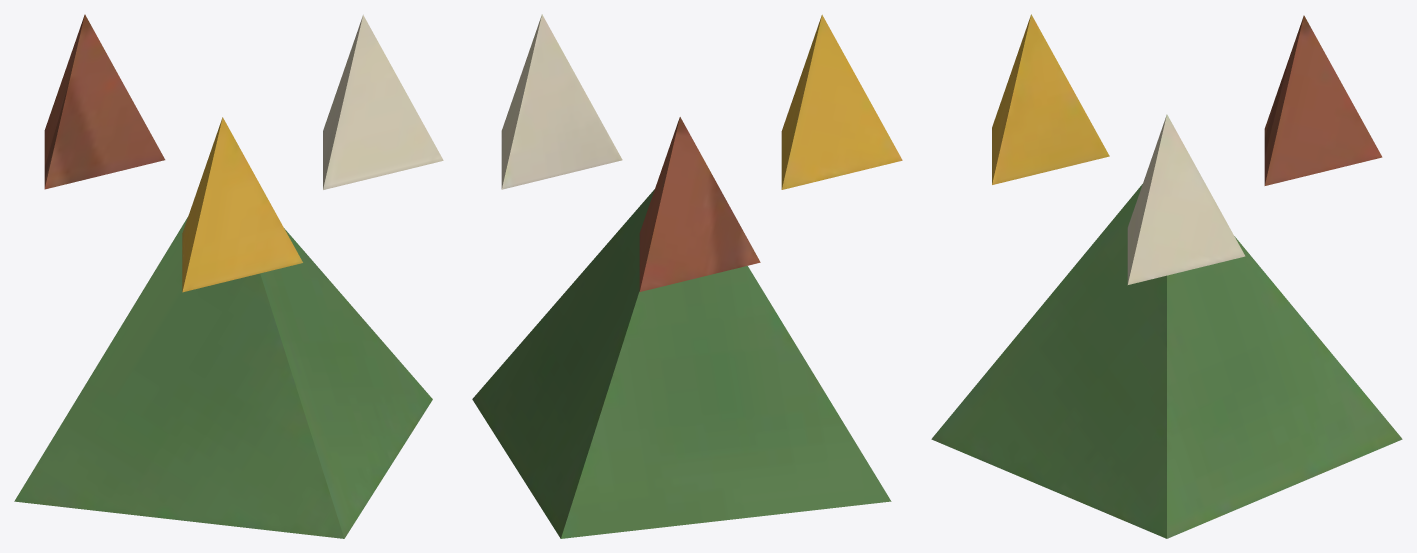
Rendered from life-plant-wild-flowers.glb.
3 views of the same model, side by side, from view 1: azimuth 30°, elevation 25°; view 2: azimuth 150°, elevation 25°; view 3: azimuth 270°, elevation 25° (orthographic). The views are drawn at different scales.
Parts seen in each view (by area): view 1: life-plant-wild-flowers; view 2: life-plant-wild-flowers; view 3: life-plant-wild-flowers.
Part boxes in pixels (left/top/right/bottom): life-plant-wild-flowers: left=14, top=14, right=443, bottom=538; life-plant-wild-flowers: left=472, top=14, right=902, bottom=538; life-plant-wild-flowers: left=931, top=14, right=1402, bottom=538.
Bounding box in the file's own units: 0.06 × 0.055 × 0.06.
1 material, 1 textured.
